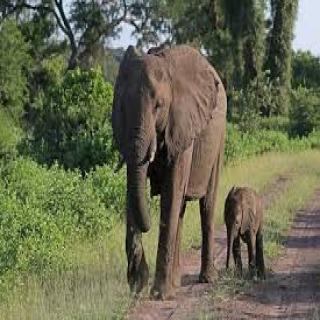Elephant: (110, 37, 222, 296), (222, 178, 271, 287)
